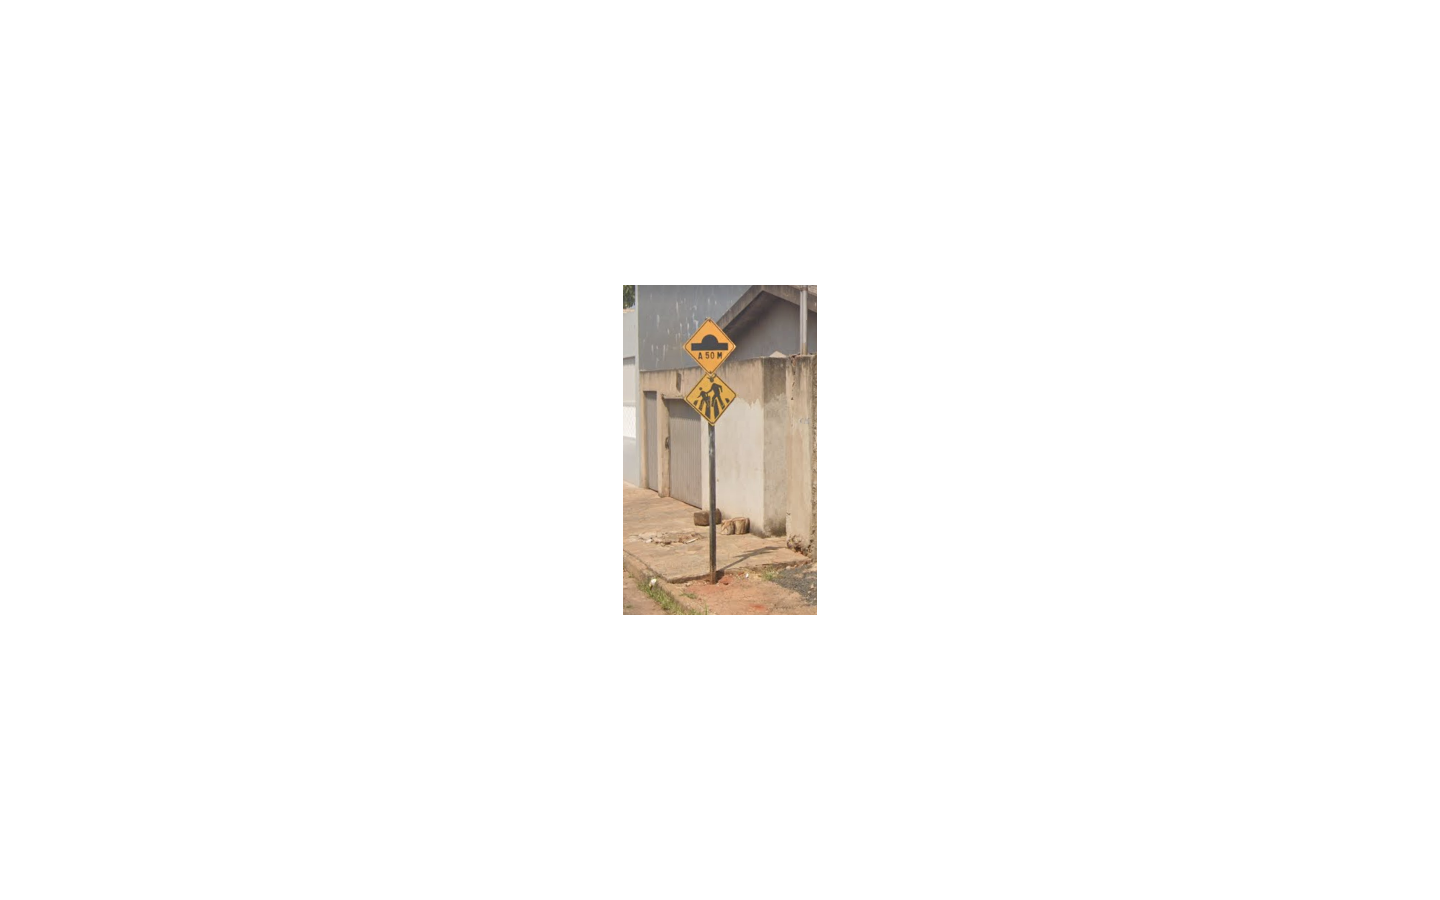l50m: (682, 317, 736, 376)
